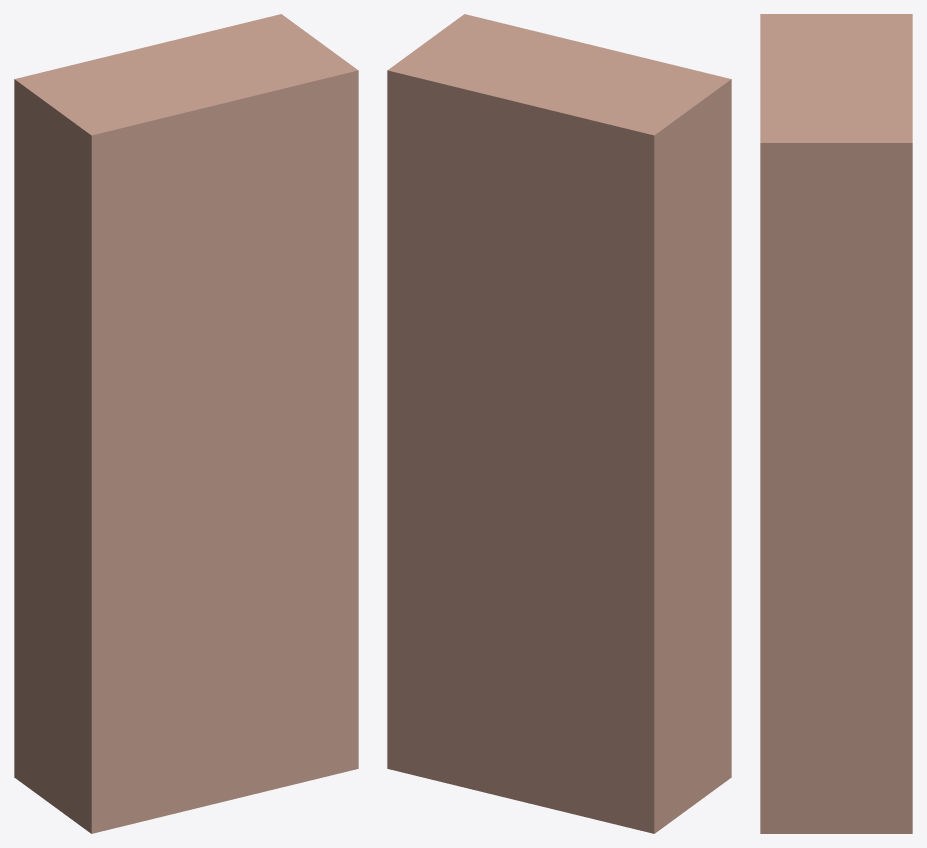
Rendered from Char18-Arm2.gltf.
The picture shows the model from 3 angles, left to right: view 1: azimuth 30°, elevation 25°; view 2: azimuth 150°, elevation 25°; view 3: azimuth 270°, elevation 25°; orthographic projection.
Size of the model in its own units: 2 by 5 by 1.
